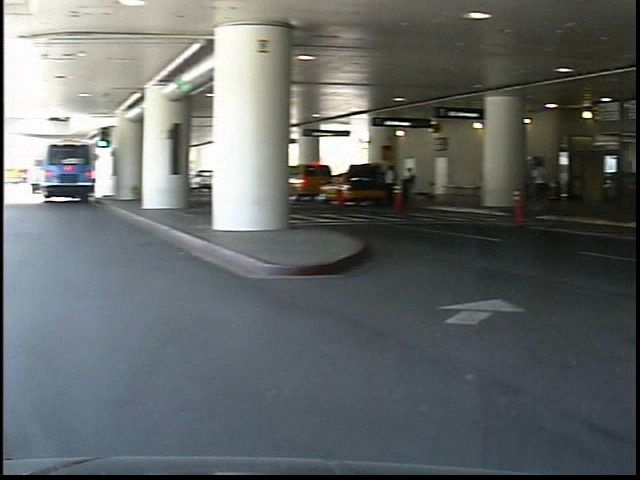person: (532, 157, 558, 210)
